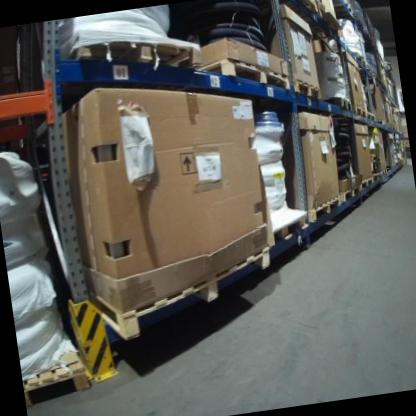pallet: (86, 244, 282, 349), (60, 17, 204, 88), (203, 48, 293, 101), (19, 346, 95, 408), (263, 209, 313, 253), (304, 195, 343, 225), (289, 73, 323, 103), (316, 6, 338, 35), (287, 0, 318, 19), (338, 183, 362, 203), (331, 97, 354, 115), (358, 174, 374, 190), (352, 104, 367, 120), (371, 170, 382, 182), (365, 110, 375, 121), (380, 168, 386, 176), (390, 162, 396, 169)
